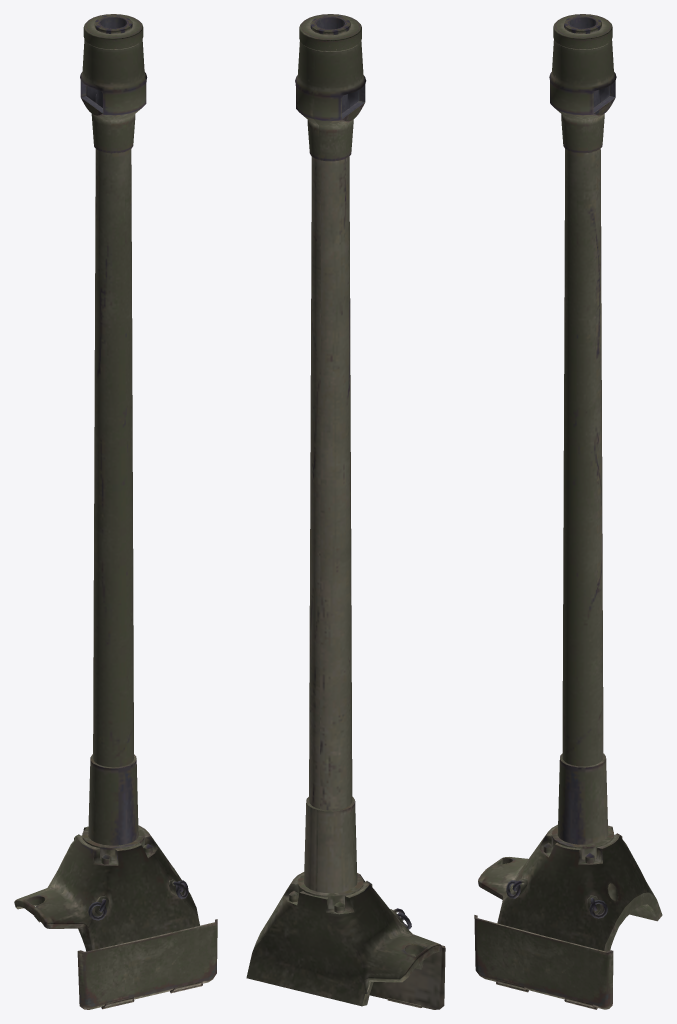
Rendered from Gun_04.glb.
The picture shows the model from 3 angles, left to right: view 1: azimuth 30°, elevation 25°; view 2: azimuth 150°, elevation 25°; view 3: azimuth 330°, elevation 25°; orthographic projection. The views are drawn at different scales.
Visible parts, largest first — view 1: set_0_group_0, set_0_group_1; view 2: set_0_group_0, set_0_group_1; view 3: set_0_group_0, set_0_group_1.
Boxes of the visible parts, x1=… form: set_0_group_0: x1=14, y1=14, x2=199, y2=951; set_0_group_1: x1=77, y1=919, x2=217, y2=1009; set_0_group_0: x1=246, y1=14, x2=441, y2=1006; set_0_group_1: x1=369, y1=945, x2=445, y2=1009; set_0_group_0: x1=478, y1=14, x2=662, y2=951; set_0_group_1: x1=474, y1=915, x2=613, y2=1009.
Size of the model in its own units: 0.8561 by 5.04 by 0.6245.
2 materials, 2 textured.
